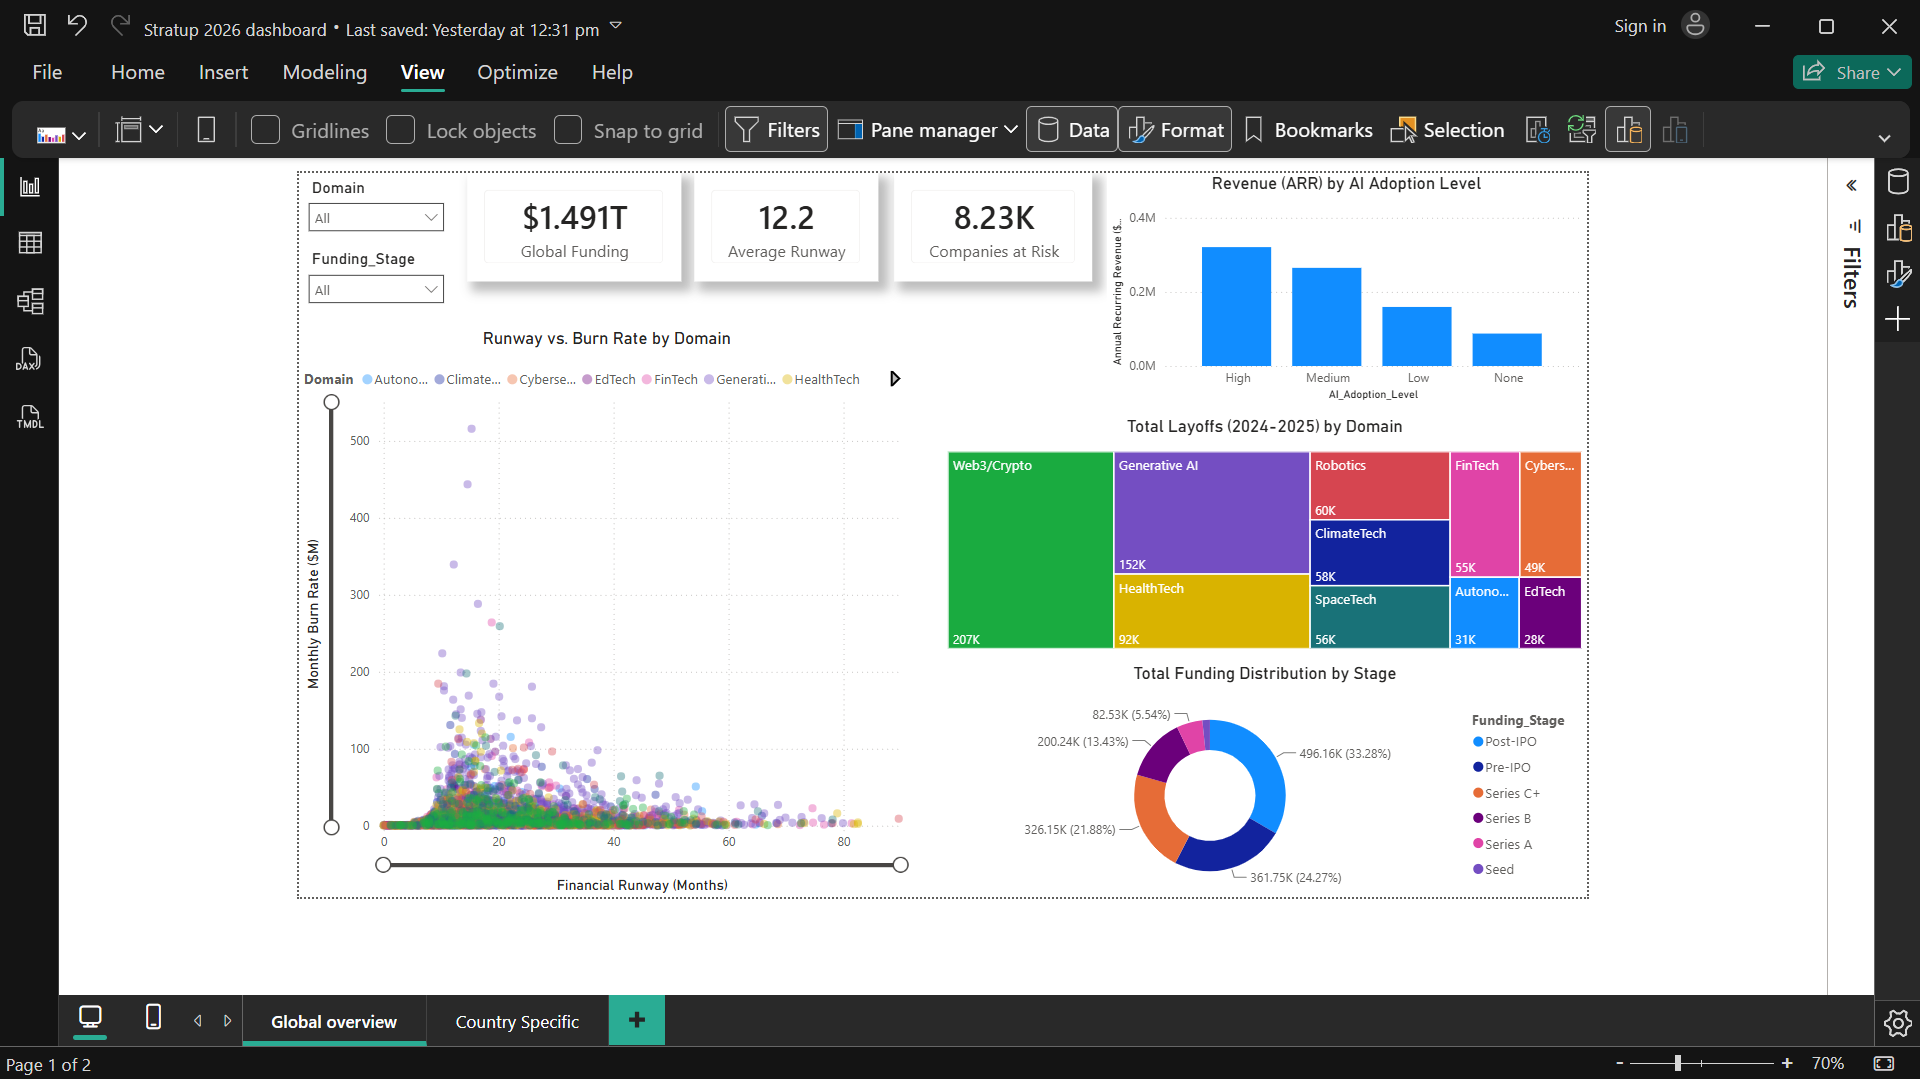

The page's visual inventory and layout, read from the dashboard file:
{"tool":"powerbi","page":{"name":"Global overview","canvas":[1280,720],"ordinal":0},"visuals":[{"type":"slicer","fields":{"Values":["startup_ecosystem_2026 vw_dim_company.Domain"]},"box":[0,0,154.4,87.4],"z":0},{"type":"slicer","fields":{"Values":["startup_ecosystem_2026 vw_fact_financials.Funding_Stage"]},"box":[0,87.4,154.4,85.6],"z":1000},{"type":"cardVisual","fields":{"Data":["startup_ecosystem_2026 vw_fact_financials.Total Global Funding"]},"box":[167.4,0,212.8,107.8],"z":2000},{"type":"cardVisual","fields":{"Data":["startup_ecosystem_2026 vw_fact_financials.Average Runway"]},"box":[392.5,0,182.7,107.5],"z":3000},{"type":"cardVisual","fields":{"Data":["startup_ecosystem_2026 vw_fact_financials.Companies at Risk (< 6M)"]},"box":[591.5,0,197.2,107.9],"z":4000},{"type":"scatterChart","title":"Runway vs. Burn Rate by Domain","fields":{"Category":["startup_ecosystem_2026 vw_fact_financials.Company_ID"],"Series":["startup_ecosystem_2026 vw_dim_company.Domain"],"X":["Sum(startup_ecosystem_2026 vw_fact_financials.Runway_Months_2024)"],"Y":["Sum(startup_ecosystem_2026 vw_fact_financials.Monthly_Burn_Rate_Millions)"]},"box":[0,154.4,611.9,565.4],"z":5000},{"type":"clusteredColumnChart","title":"Revenue (ARR) by AI Adoption Level","fields":{"Category":["startup_ecosystem_2026 vw_dim_company.AI_Adoption_Level"],"Y":["Sum(startup_ecosystem_2026 vw_fact_financials.Revenue_ARR_Millions)"]},"box":[803.5,0,476.2,230.6],"z":6000},{"type":"treemap","title":"Total Layoffs (2024-2025) by Domain","fields":{"Group":["startup_ecosystem_2026 vw_dim_company.Domain"],"Values":["startup_ecosystem_2026 vw_fact_headcount.Total Layoffs"]},"box":[639.8,241.8,639.8,236.2],"z":7000},{"type":"donutChart","title":"Total Funding Distribution by Stage","fields":{"Category":["startup_ecosystem_2026 vw_fact_financials.Funding_Stage"],"Y":["Sum(startup_ecosystem_2026 vw_fact_financials.Total_Funding_USD_Millions)"]},"box":[639.8,487.3,639.8,232.5],"z":8000}]}

Visuals, with their boxes on the page's 1280x720 design canvas (x1, y1, x2, y2). These are canvas units, not pixel positions in the 1920x1079 screenshot, which may show the page scaled, cropped or inside an application window:
slicer - startup_ecosystem_2026 vw_dim_company.Domain: box(0, 0, 154, 87)
slicer - startup_ecosystem_2026 vw_fact_financials.Funding_Stage: box(0, 87, 154, 173)
cardVisual - startup_ecosystem_2026 vw_fact_financials.Total Global Funding: box(167, 0, 380, 108)
cardVisual - startup_ecosystem_2026 vw_fact_financials.Average Runway: box(392, 0, 575, 108)
cardVisual - startup_ecosystem_2026 vw_fact_financials.Companies at Risk (< 6M): box(592, 0, 789, 108)
"Runway vs. Burn Rate by Domain" scatterChart: box(0, 154, 612, 720)
"Revenue (ARR) by AI Adoption Level" clusteredColumnChart: box(804, 0, 1280, 231)
"Total Layoffs (2024-2025) by Domain" treemap: box(640, 242, 1280, 478)
"Total Funding Distribution by Stage" donutChart: box(640, 487, 1280, 720)
